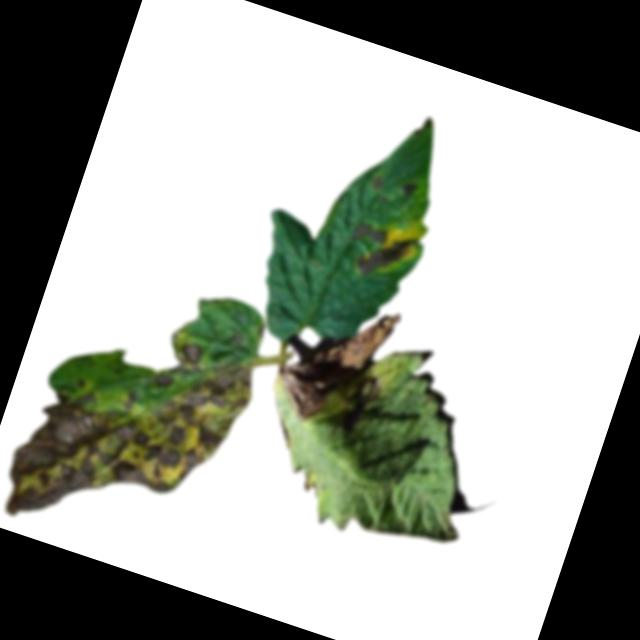Early_blight: (1, 297, 263, 577), (265, 281, 401, 441), (349, 221, 419, 288), (348, 217, 389, 249), (370, 173, 383, 189)
